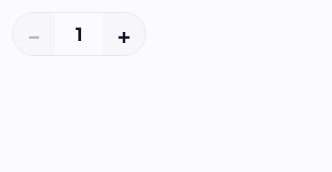
Design system components › QuantityStepper never goes past the max of 2
Click the button named "Increase quantity".
click(124, 34)  # box top-left (103, 13), bottom-right (145, 55)
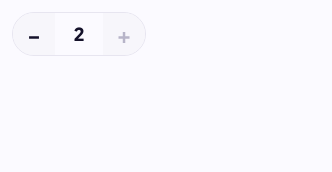
Check: the text "2" is shown, box top-left (74, 22), bottom-right (84, 45)
Check: the button named "Increase quantity" is disabled, box top-left (103, 13), bottom-right (145, 55)
Check: the button named "Decrease quantity" is enabled, box top-left (13, 13), bottom-right (55, 55)
